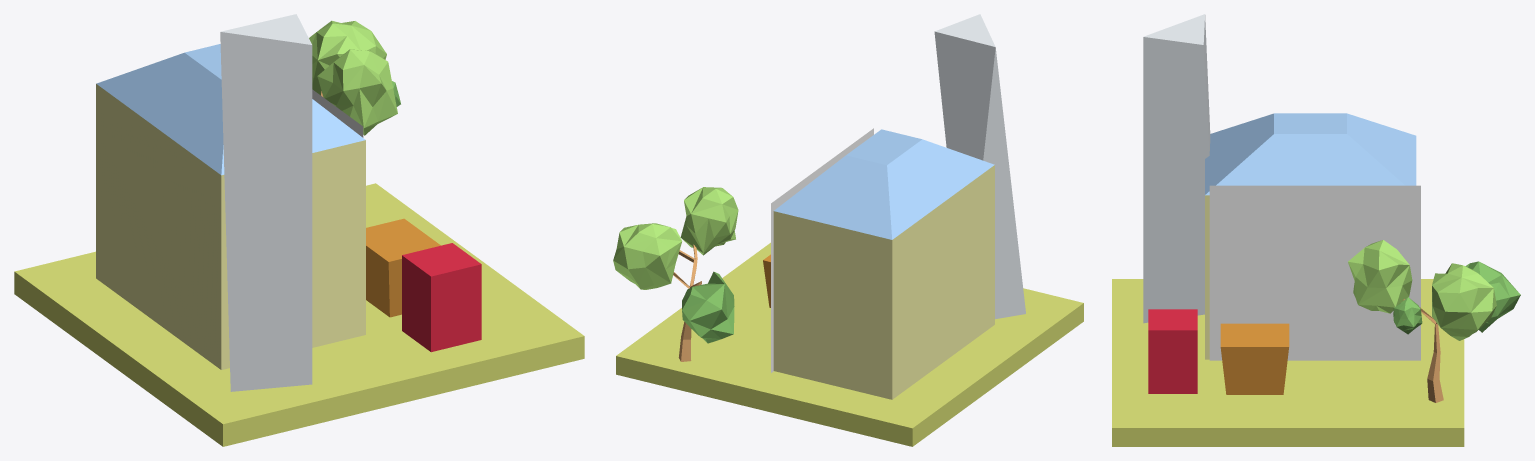
The model's file is building_recyclingplant.fbx.
3 views of the same model, side by side, from view 1: azimuth 30°, elevation 25°; view 2: azimuth 150°, elevation 25°; view 3: azimuth 270°, elevation 25° (orthographic). The views are drawn at different scales.
Visible parts, largest first — view 1: Cube.001; view 2: Cube.001; view 3: Cube.001.
Part boxes in pixels (x1,y1,x2,y2): Cube.001: [14, 14, 584, 446]; Cube.001: [613, 14, 1083, 446]; Cube.001: [1112, 14, 1520, 446].
Bounding box in the file's own units: 50 × 47.85 × 58.03.
